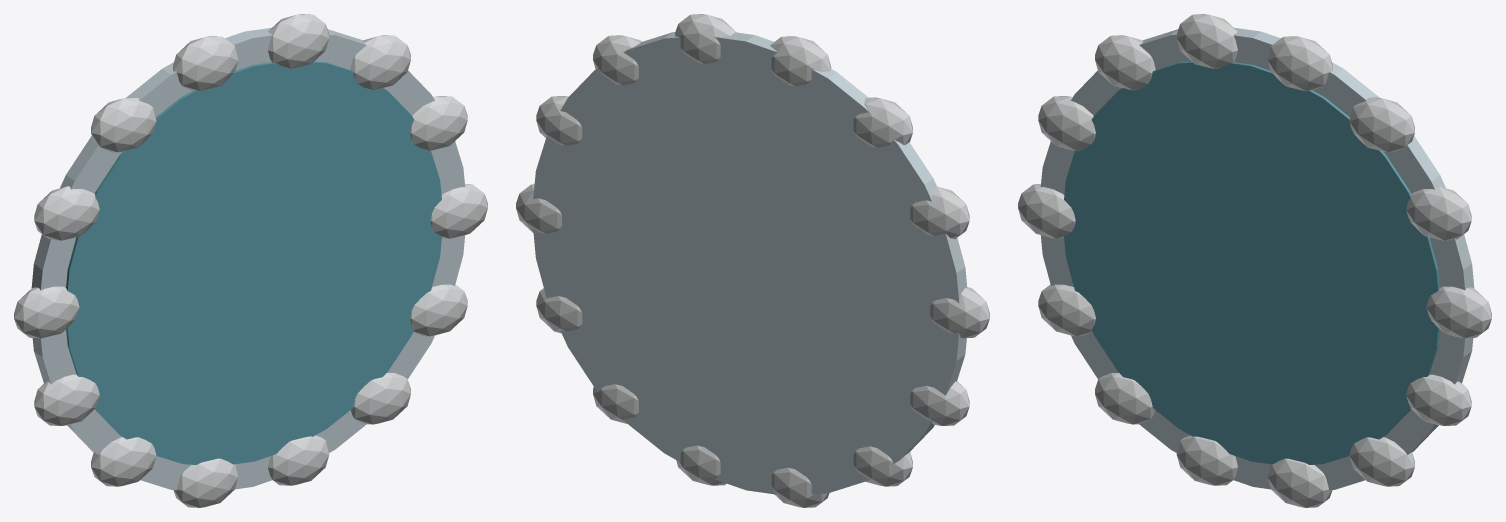
Rendered from frozen_lake.glb.
3 views of the same model, side by side, from view 1: azimuth 30°, elevation 25°; view 2: azimuth 150°, elevation 25°; view 3: azimuth 330°, elevation 25° (orthographic).
Visible parts, largest first — view 1: frozen_lake_1, frozen_lake_0, frozen_lake_7, frozen_lake_6, frozen_lake_8, frozen_lake_9, frozen_lake_5, frozen_lake_10, frozen_lake_4, frozen_lake_11, frozen_lake_3, frozen_lake_12 (+4 smaller); view 2: frozen_lake_0, frozen_lake_7, frozen_lake_6, frozen_lake_8, frozen_lake_9, frozen_lake_5, frozen_lake_10, frozen_lake_4, frozen_lake_11, frozen_lake_3, frozen_lake_12, frozen_lake_2 (+3 smaller); view 3: frozen_lake_1, frozen_lake_0, frozen_lake_4, frozen_lake_5, frozen_lake_3, frozen_lake_2, frozen_lake_6, frozen_lake_15, frozen_lake_7, frozen_lake_14, frozen_lake_8, frozen_lake_13 (+4 smaller).
Boxes of the visible parts, x1,y1,x2,y2 form: frozen_lake_1: (66, 61, 441, 464); frozen_lake_0: (31, 27, 465, 490); frozen_lake_7: (91, 97, 156, 152); frozen_lake_6: (173, 36, 238, 91); frozen_lake_8: (34, 186, 99, 240); frozen_lake_9: (14, 286, 79, 338); frozen_lake_5: (268, 14, 329, 68); frozen_lake_10: (34, 374, 99, 425); frozen_lake_4: (350, 35, 410, 90); frozen_lake_11: (91, 437, 156, 486); frozen_lake_3: (410, 96, 467, 150); frozen_lake_12: (173, 458, 238, 507); frozen_lake_0: (533, 32, 967, 494); frozen_lake_7: (853, 97, 912, 147); frozen_lake_6: (770, 36, 831, 86); frozen_lake_8: (910, 186, 969, 239); frozen_lake_9: (930, 287, 989, 338); frozen_lake_5: (675, 14, 736, 64); frozen_lake_10: (910, 381, 969, 425); frozen_lake_4: (593, 35, 641, 85); frozen_lake_11: (853, 446, 912, 486); frozen_lake_3: (536, 96, 582, 145); frozen_lake_12: (771, 467, 829, 507); frozen_lake_2: (516, 184, 561, 233); frozen_lake_1: (1064, 61, 1439, 464); frozen_lake_0: (1040, 27, 1474, 490); frozen_lake_4: (1349, 97, 1414, 152); frozen_lake_5: (1267, 36, 1332, 91); frozen_lake_3: (1406, 186, 1471, 240); frozen_lake_2: (1426, 286, 1491, 338); frozen_lake_6: (1176, 14, 1237, 68); frozen_lake_15: (1406, 374, 1471, 425); frozen_lake_7: (1095, 35, 1155, 90); frozen_lake_14: (1349, 437, 1414, 486); frozen_lake_8: (1038, 96, 1095, 150); frozen_lake_13: (1267, 458, 1332, 507).
Bounding box in the file's own units: 4.64 × 4.4 × 0.32.
